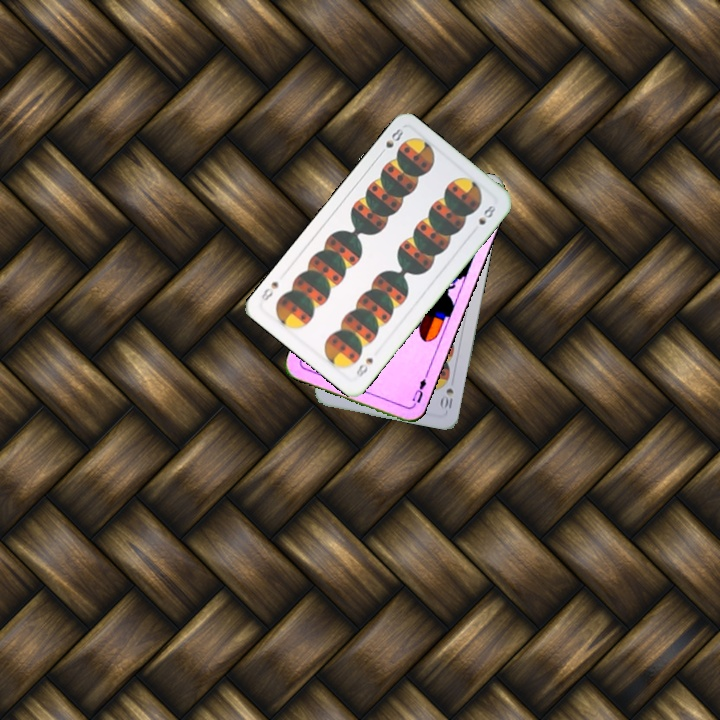EU: (408, 374, 429, 406)
S10: (437, 384, 456, 413)
S8: (375, 124, 406, 159), (352, 353, 376, 380)
